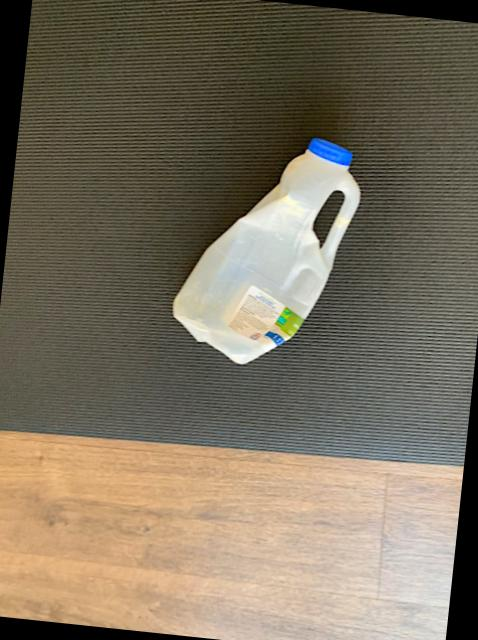plastic: (174, 141, 361, 365), (314, 192, 345, 250)
